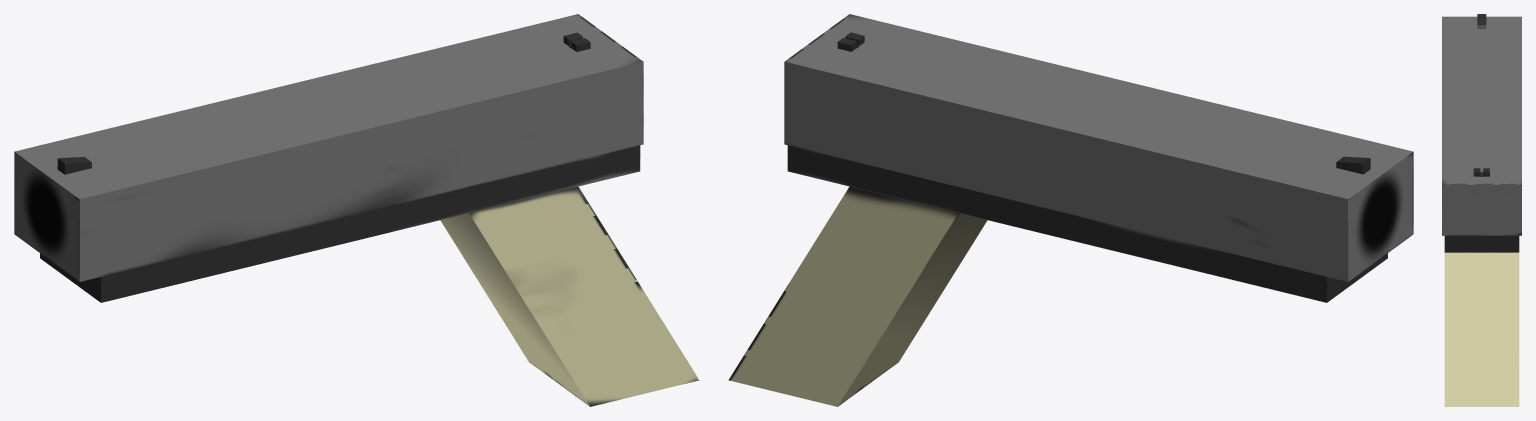
Rendered from pistolet.obj.
3 renders of one model, left to right at view 1: azimuth 30°, elevation 25°; view 2: azimuth 150°, elevation 25°; view 3: azimuth 270°, elevation 25°, orthographic. The views are drawn at different scales.
Parts seen in each view (by area): view 1: Cube; view 2: Cube; view 3: Cube.
Part boxes in pixels (box(x1,y1,x2,y2)): Cube: box(14, 14, 699, 406); Cube: box(728, 14, 1413, 406); Cube: box(1442, 14, 1521, 406).
Bounding box in the file's own units: 11.74 × 6.23 × 2.13.
1 material, 1 textured.
